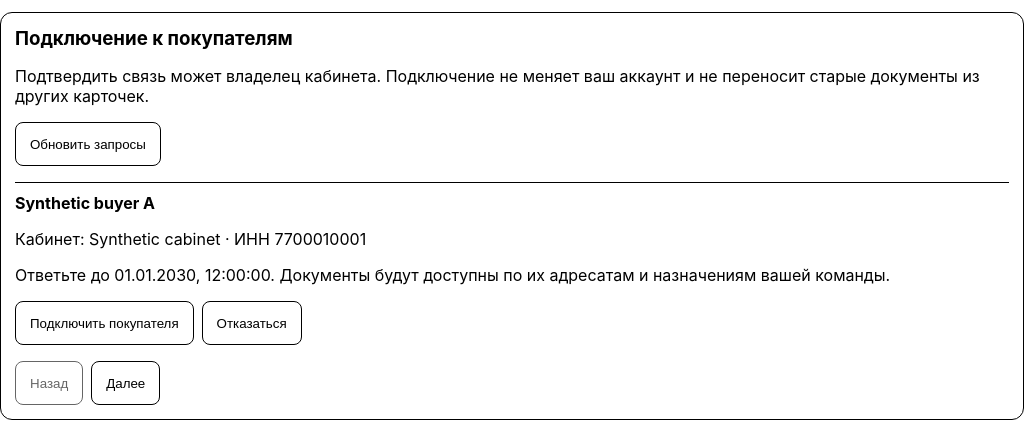
Test case: accepted decision survives a failed refresh and owner can page requests
Step 1. Click the button "Подключить покупателя" → (104, 323), box x1=15 y1=301 x2=194 y2=345
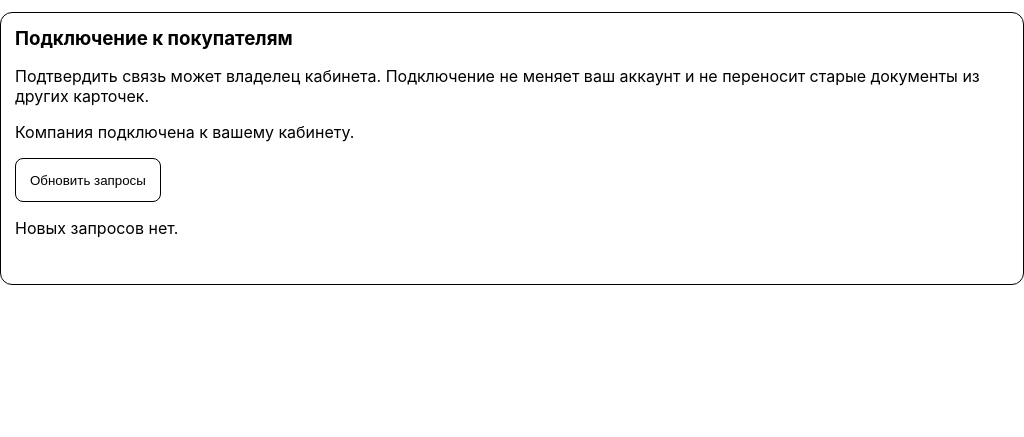
Result: the text "Компания подключена к вашему кабинету." is shown at x1=15 y1=122 x2=354 y2=142
Result: the text "Новых запросов нет." is shown at x1=15 y1=218 x2=178 y2=238
